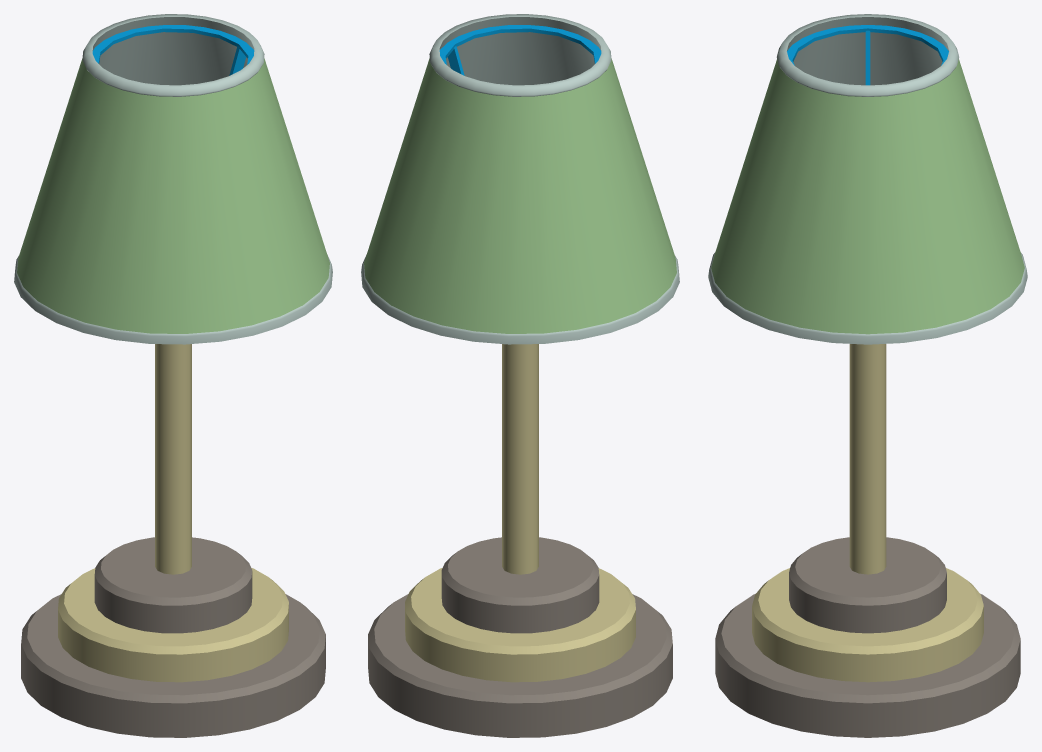
Rendered from lampRoundTable.fbx.
3 renders of one model, left to right at view 1: azimuth 30°, elevation 25°; view 2: azimuth 150°, elevation 25°; view 3: azimuth 270°, elevation 25°, orthographic.
Parts seen in each view (by area): view 1: lampRoundTable; view 2: lampRoundTable; view 3: lampRoundTable.
Part boxes in pixels (x1,y1,x2,y2): lampRoundTable: (14,14,332,737); lampRoundTable: (361,14,679,737); lampRoundTable: (708,14,1027,737).
Size of the model in its own units: 41.86 by 89.9 by 41.86.
